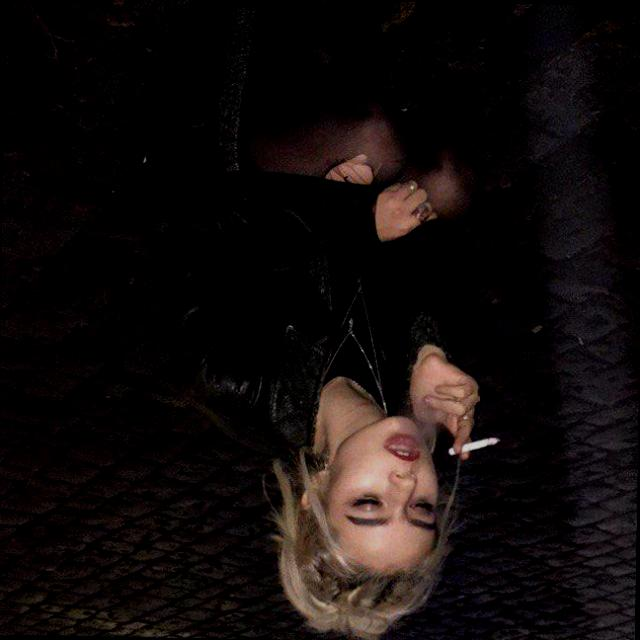cigarette: (441, 429, 505, 468)
